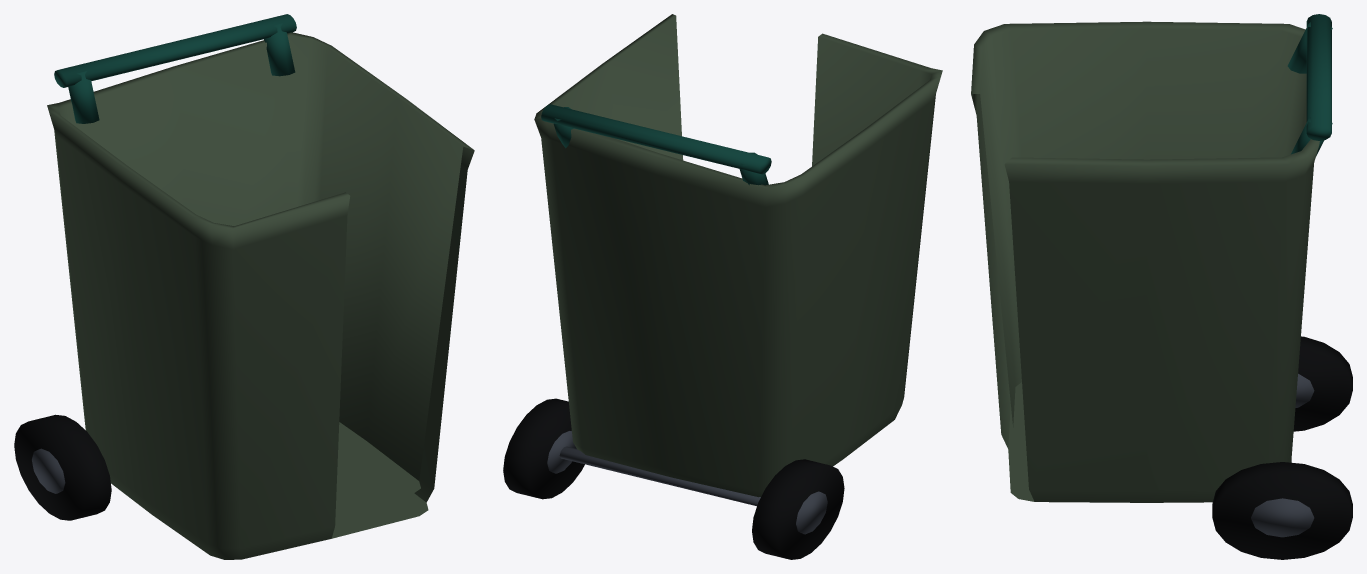
Rendered from bin-broken.glb.
3 views of the same model, side by side, from view 1: azimuth 30°, elevation 25°; view 2: azimuth 150°, elevation 25°; view 3: azimuth 270°, elevation 25° (orthographic). The views are drawn at different scales.
Visible parts, largest first — view 1: bin-broken; view 2: bin-broken; view 3: bin-broken.
Part boxes in pixels (box(x1,y1,x2,y2)): bin-broken: box(14, 14, 474, 559); bin-broken: box(503, 14, 942, 559); bin-broken: box(971, 14, 1352, 559).
Bounding box in the file's own units: 0.717 × 0.988 × 0.8145.
1 material, 1 textured.
